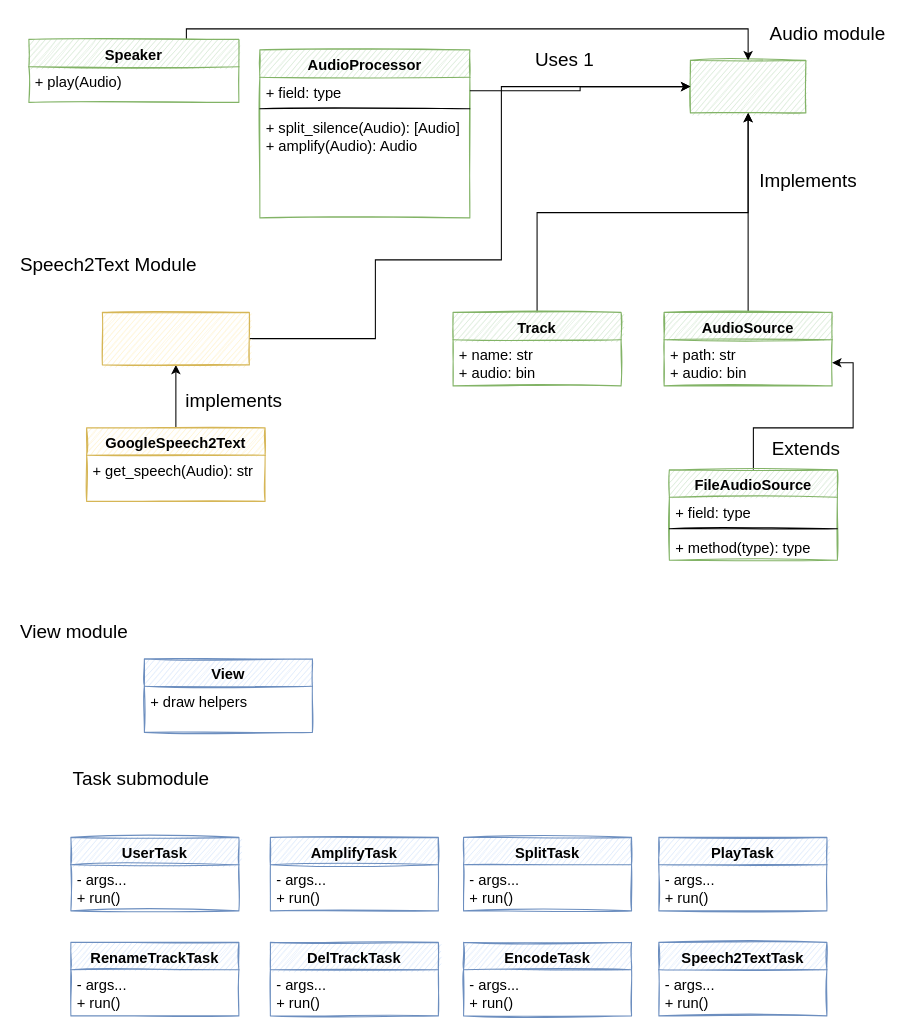
Some shapes in this 904 by 1036 pixel diagram are drawn without their labels. The centre of each missing label's shape, as x and y in pixels:
"«interface» Audio" goes at point (747, 86).
"«interface» Speech2TextEngine" goes at point (175, 338).
